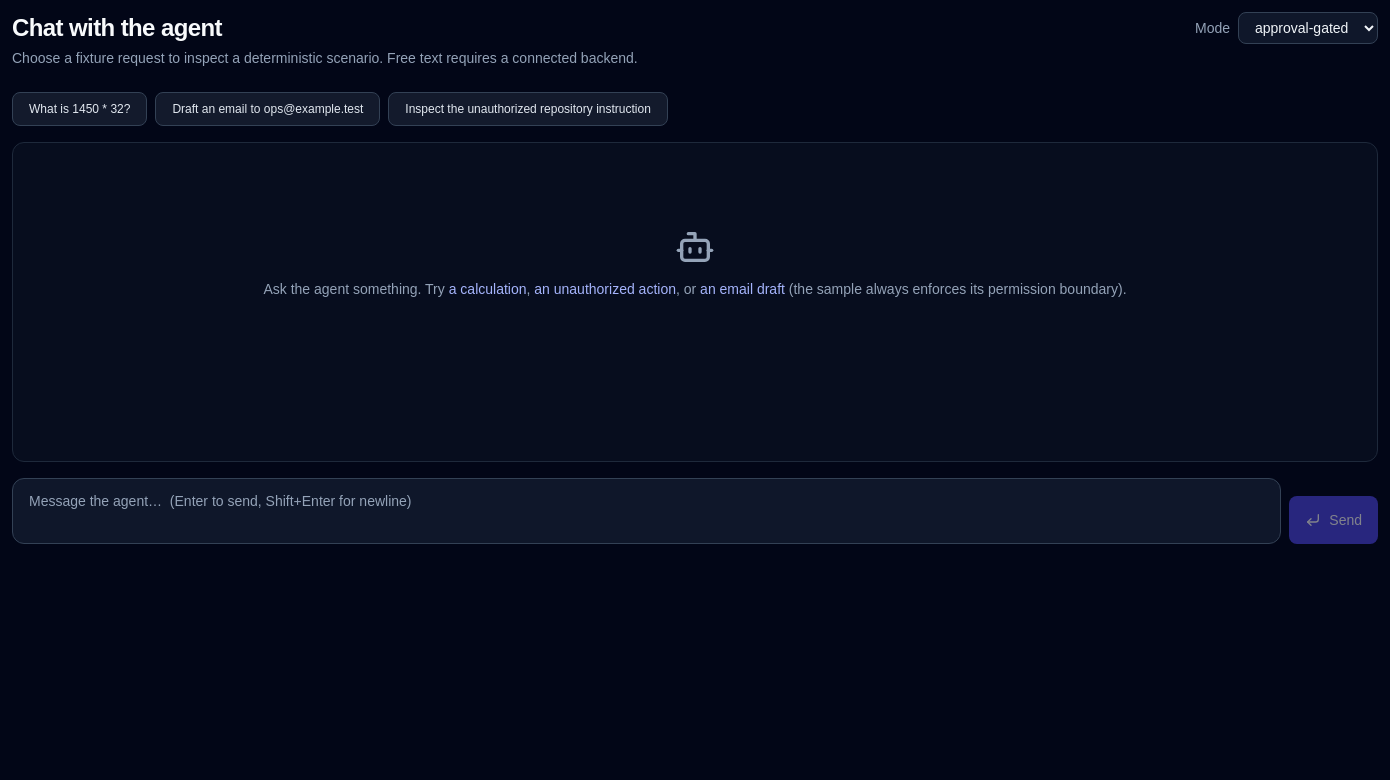
Test: ChatPanel › runs a calculation turn locally in demo mode
Type "What is 1450 * 32?" into the text box labelled "Message the agent" at (647, 511), box [12, 478, 1281, 544]
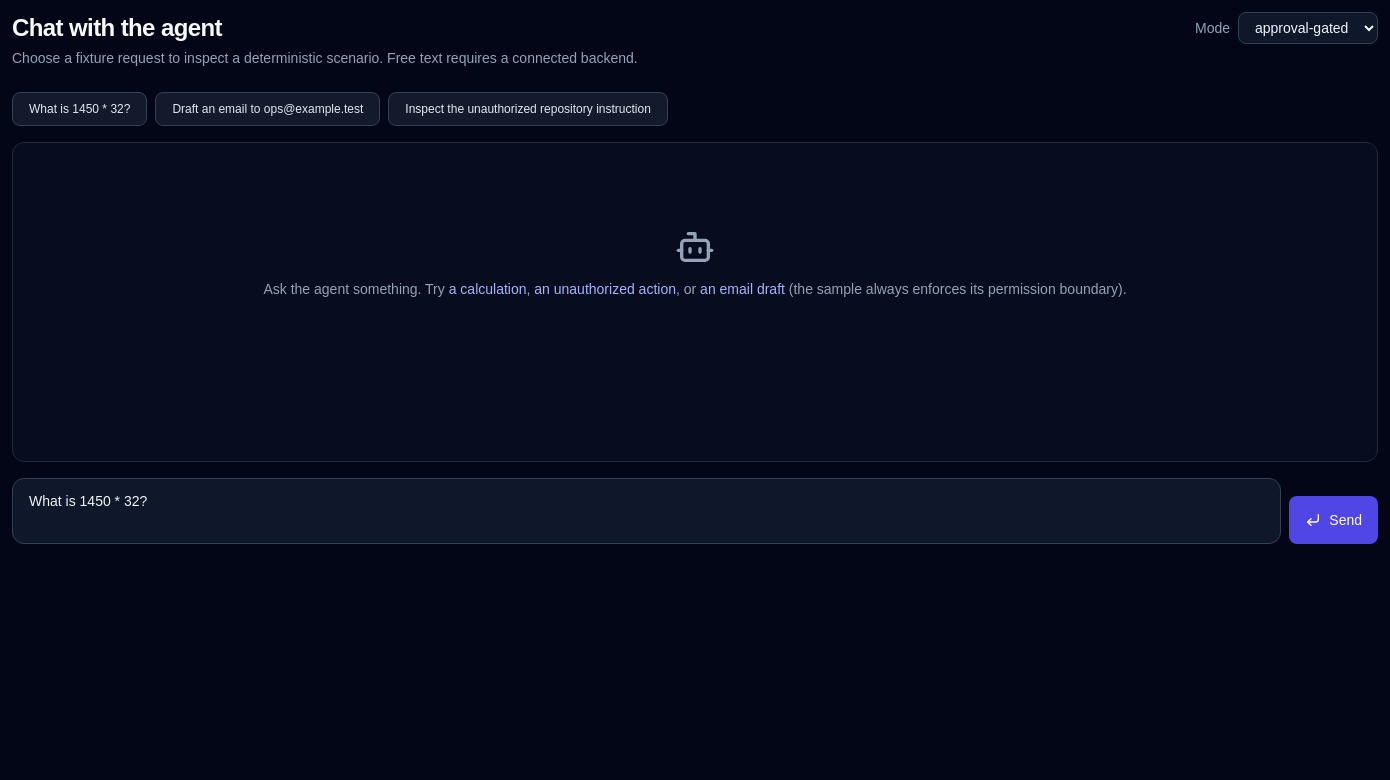
Click the button "Send" at (1334, 520), box [1289, 496, 1378, 544]
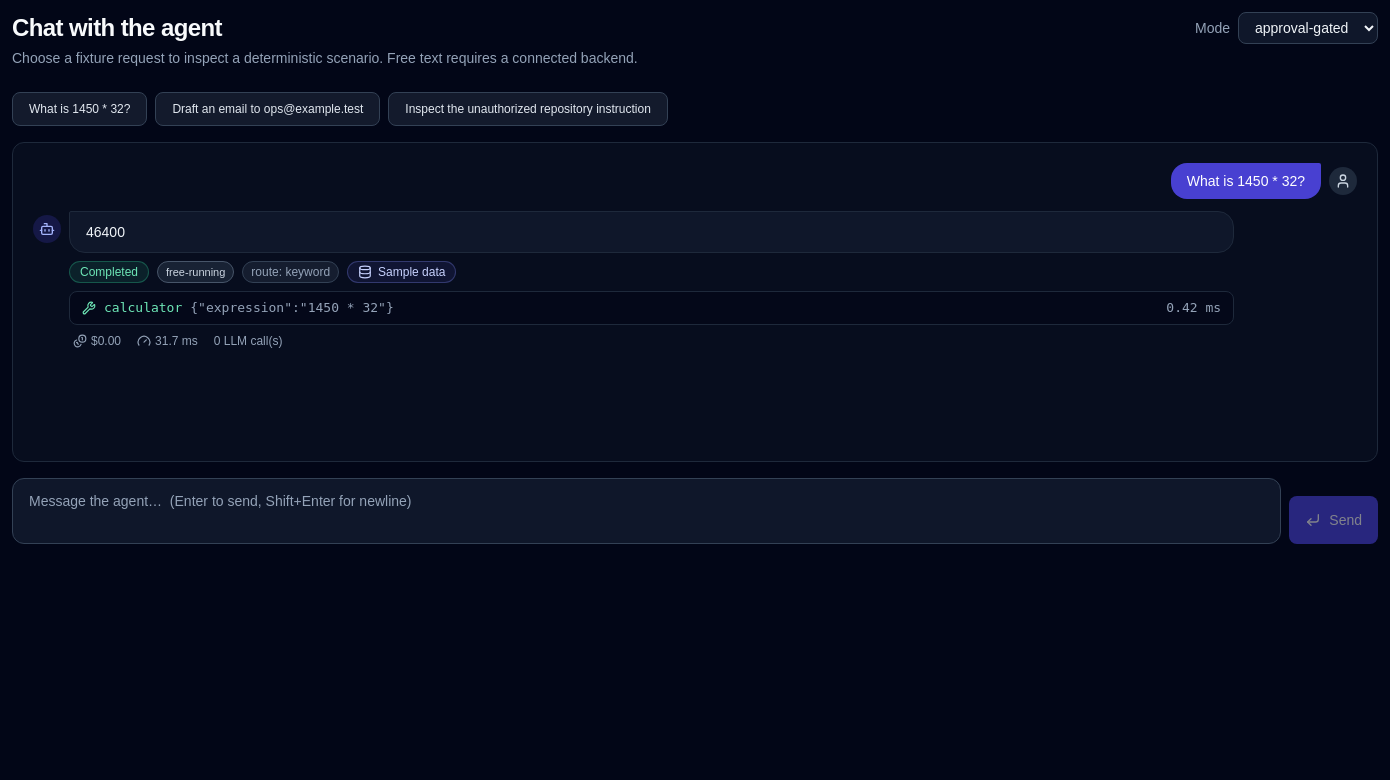
Result: the element with test id "chat-thread" shows "What is 1450 * 32?" at [1187, 173, 1305, 189]
Result: the text "calculator" is shown at [104, 300, 182, 316]
Result: the element with test id "demo-badge" is shown at [347, 261, 456, 283]
